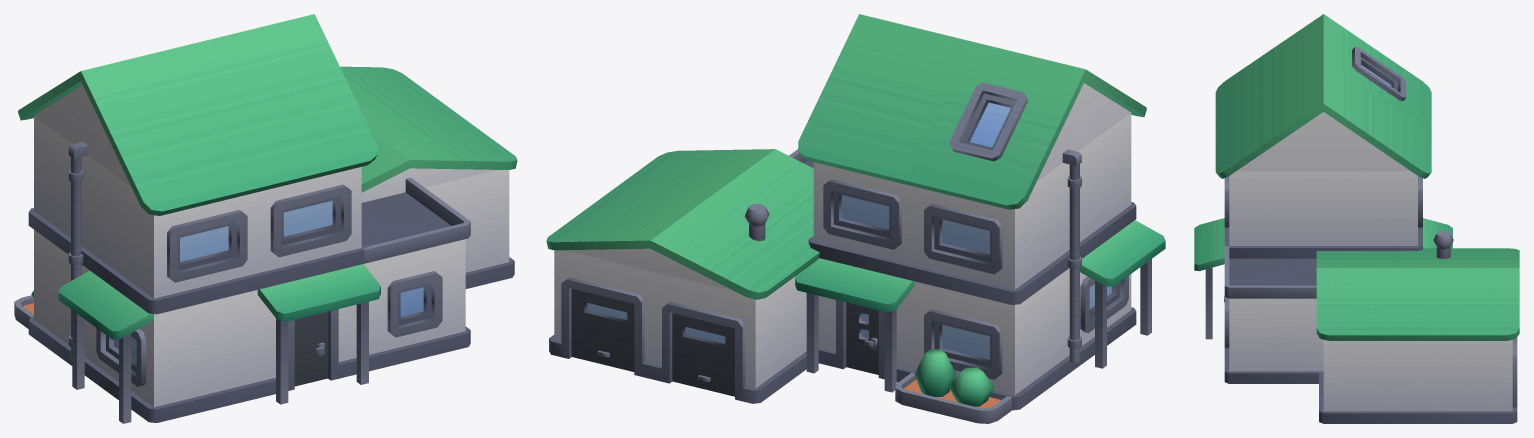
The model's file is building-type-n.glb.
3 renders of one model, left to right at view 1: azimuth 30°, elevation 25°; view 2: azimuth 150°, elevation 25°; view 3: azimuth 270°, elevation 25°, orthographic. The views are drawn at different scales.
Visible parts, largest first — view 1: building-type-n; view 2: building-type-n; view 3: building-type-n.
Boxes of the visible parts, bbox=[...] form: building-type-n: bbox=[14, 14, 517, 423]; building-type-n: bbox=[546, 14, 1165, 423]; building-type-n: bbox=[1194, 14, 1519, 423].
Bounding box in the file's own units: 1.78 × 1.14 × 1.38.
1 material, 1 textured.
